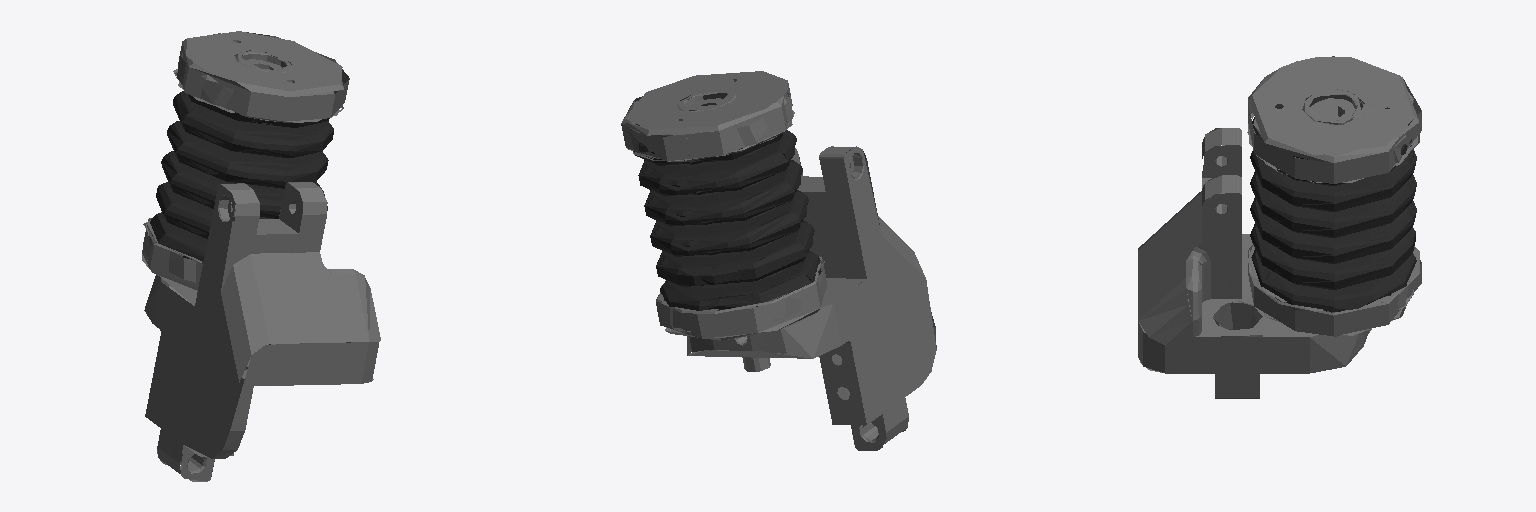
The picture shows the model from 3 angles: view 1: azimuth 30°, elevation 25°; view 2: azimuth 150°, elevation 25°; view 3: azimuth 270°, elevation 25°; orthographic projection.
Size of the model in its own units: 0.0278 by 0.0445 by 0.0314.
Materials: 1 (1 with a texture image).